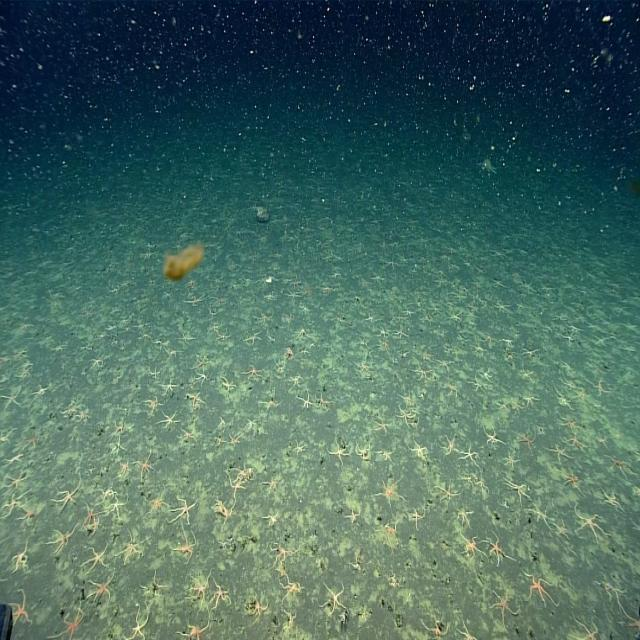brittle-stars: (524, 570, 559, 610), (491, 589, 518, 627), (576, 504, 600, 544), (8, 590, 33, 628), (60, 602, 84, 639), (124, 607, 148, 640), (571, 613, 600, 640), (87, 576, 113, 606), (322, 583, 347, 614), (270, 539, 294, 571), (172, 530, 195, 563), (81, 540, 109, 567), (226, 477, 248, 510), (120, 534, 144, 564), (212, 579, 232, 614), (486, 534, 509, 564), (106, 495, 128, 525), (530, 502, 552, 532), (53, 484, 78, 510), (378, 481, 402, 508), (178, 620, 210, 640), (172, 497, 193, 527), (506, 480, 531, 505), (1, 468, 27, 492), (421, 616, 449, 638), (191, 574, 210, 606), (560, 466, 582, 493), (436, 479, 456, 508), (516, 427, 536, 456), (278, 576, 302, 600), (460, 532, 482, 558), (248, 594, 268, 621), (0, 386, 23, 409), (51, 528, 73, 552), (328, 440, 349, 465), (13, 545, 31, 574), (187, 389, 207, 415), (384, 521, 401, 551), (144, 493, 168, 514), (482, 426, 504, 448), (456, 619, 478, 640), (602, 489, 622, 512), (18, 505, 37, 529), (457, 506, 474, 532), (412, 363, 434, 383), (138, 451, 154, 478), (440, 434, 458, 458), (590, 377, 608, 401), (218, 378, 237, 400), (116, 454, 132, 480), (410, 438, 427, 462), (31, 382, 51, 402), (161, 408, 179, 430), (262, 388, 280, 410), (550, 440, 568, 462), (560, 415, 582, 433), (315, 392, 331, 416), (554, 517, 570, 540), (470, 373, 486, 396), (411, 506, 425, 532), (97, 481, 115, 501), (112, 416, 127, 440), (244, 363, 262, 383), (460, 445, 478, 465), (521, 344, 541, 362), (378, 447, 395, 468), (244, 328, 262, 347), (143, 395, 160, 415), (25, 428, 38, 454), (83, 504, 97, 528), (398, 406, 414, 427), (474, 473, 489, 495), (517, 364, 535, 382), (346, 508, 362, 528), (299, 388, 312, 412), (163, 376, 177, 398), (473, 339, 487, 361), (2, 452, 24, 466), (256, 309, 274, 326), (568, 432, 584, 451), (145, 362, 161, 381), (355, 360, 374, 376), (354, 442, 369, 462), (193, 369, 210, 386), (178, 328, 195, 345), (216, 326, 230, 346), (263, 474, 278, 492), (375, 418, 390, 436), (394, 324, 409, 342), (505, 450, 517, 472), (228, 432, 241, 452), (181, 428, 197, 444), (399, 390, 414, 407), (378, 337, 392, 355), (195, 354, 209, 372), (290, 370, 302, 391), (511, 395, 523, 415), (186, 294, 203, 308), (244, 416, 256, 435), (274, 358, 285, 378), (286, 288, 300, 303), (522, 393, 538, 406), (446, 382, 458, 399), (90, 355, 104, 369)
